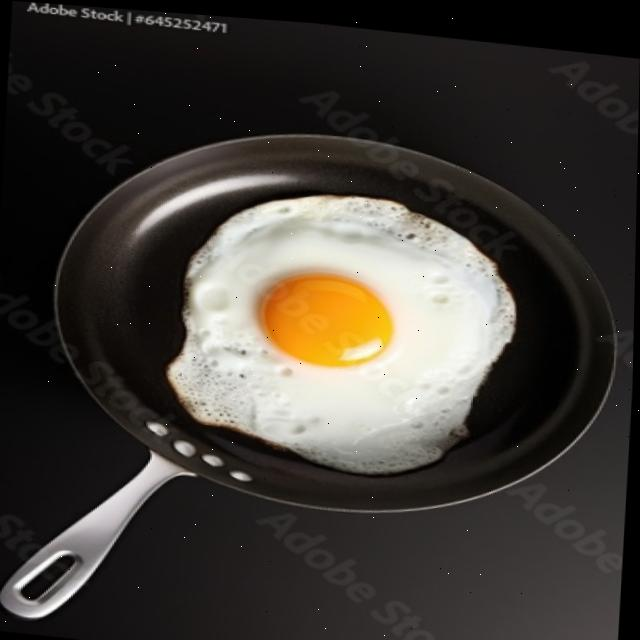Egg: (169, 189, 514, 468)
